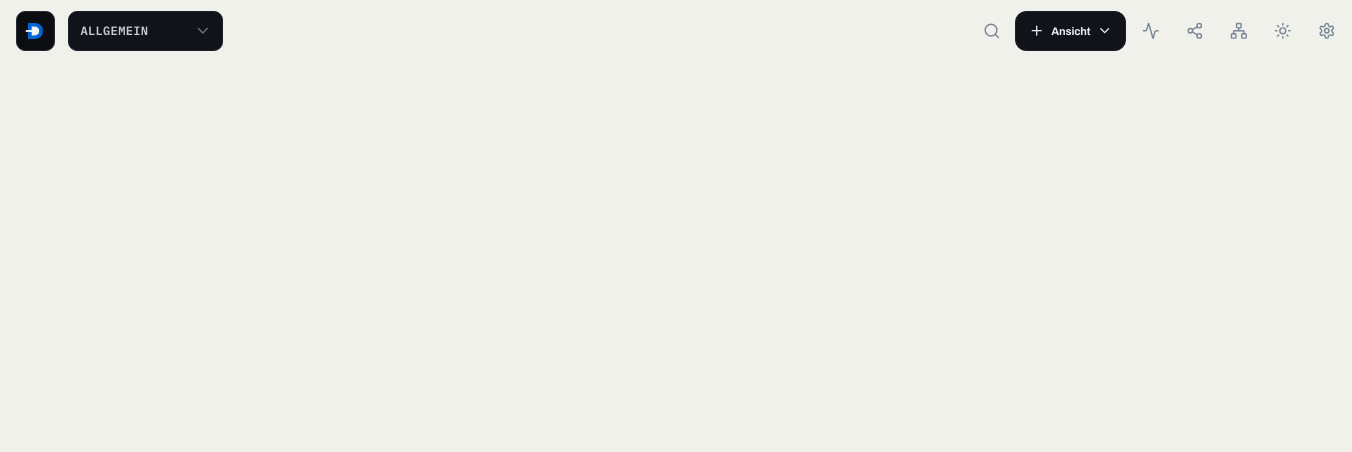
Scenario: GlobalSearch privileged views › shows the Link-Manager only to admins
Click the button titled "Ansicht". click: (1071, 31)
box: [1015,11,1126,51]
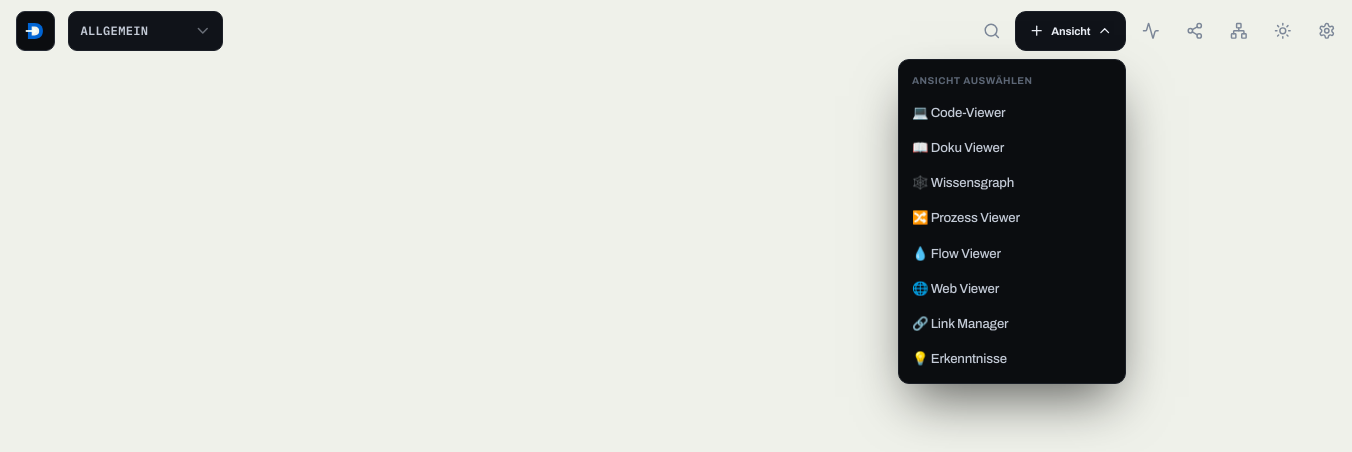
Check: the button "🔗 Link Manager" is shown, box [899,306,1126,341]
